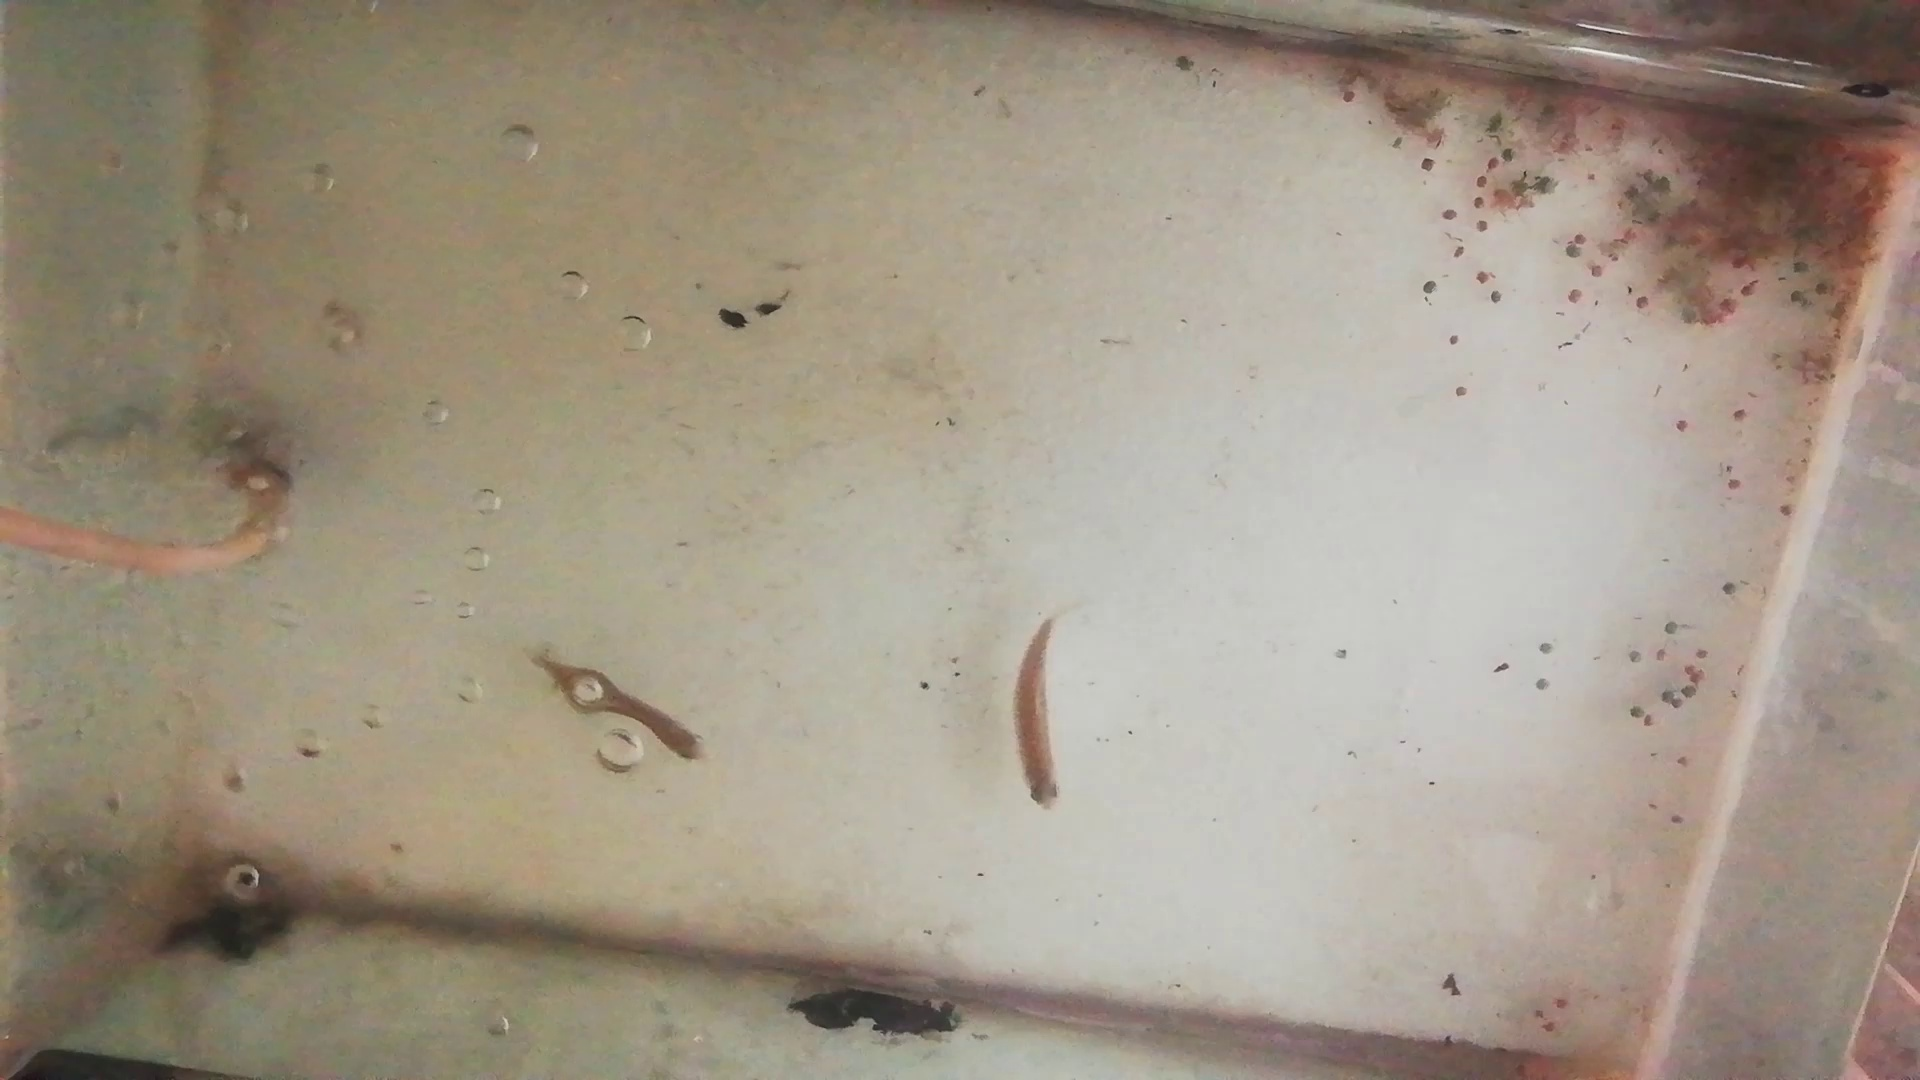fish: (538, 654, 708, 764), (1009, 616, 1064, 803)
